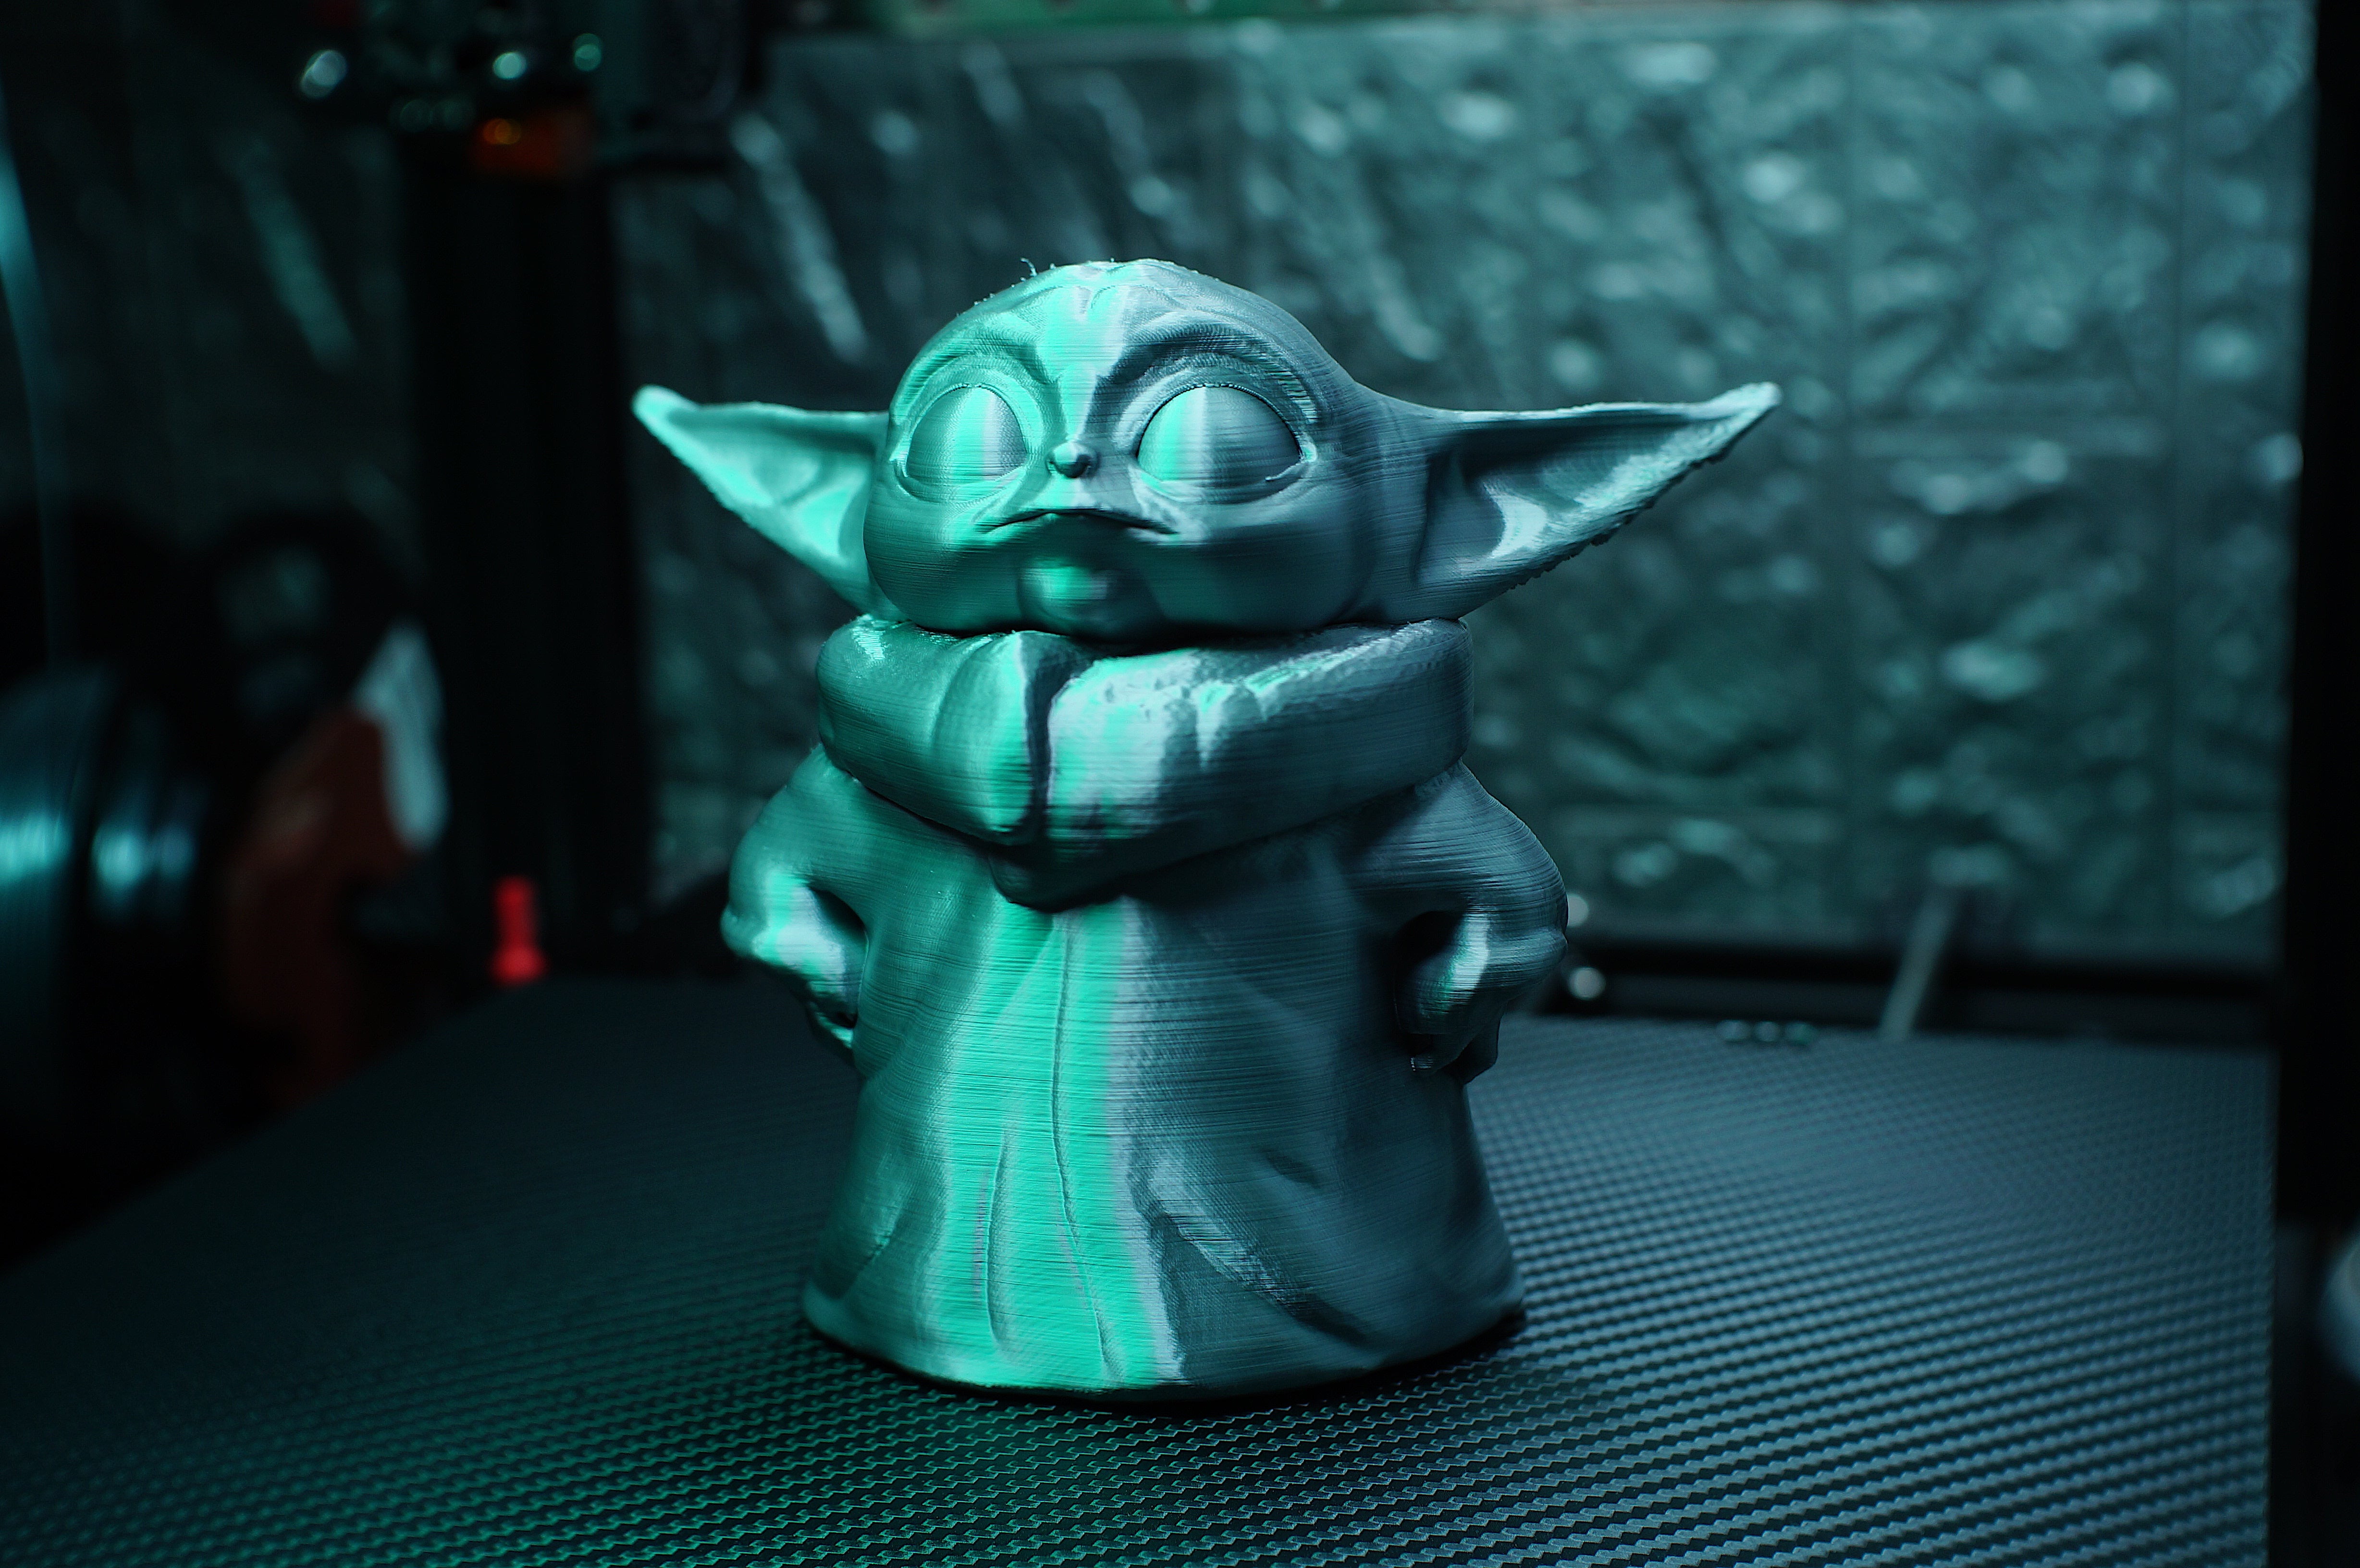Good: (535, 205, 1849, 1449)
